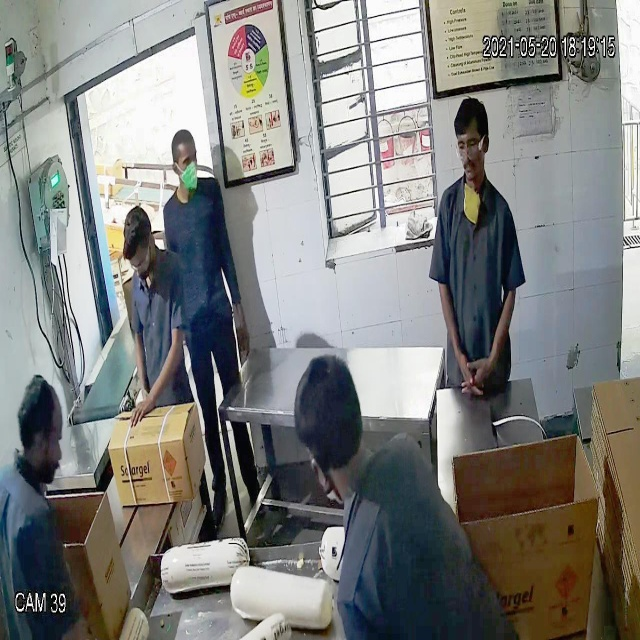Gafas: (452, 138, 490, 159)
Sin_gafas: (169, 152, 201, 172)
